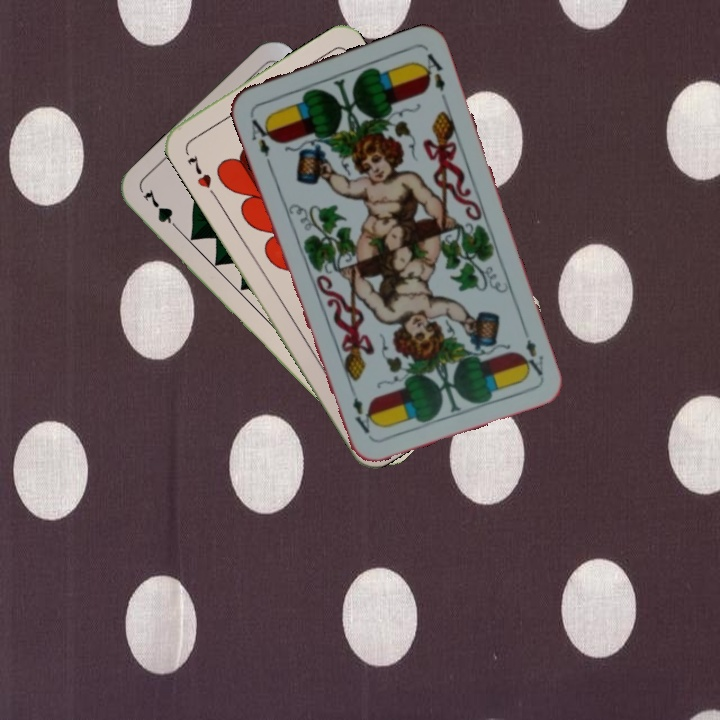EA: (517, 322, 546, 379), (245, 109, 276, 160)
G7: (139, 185, 185, 236)
H7: (183, 151, 219, 199)
